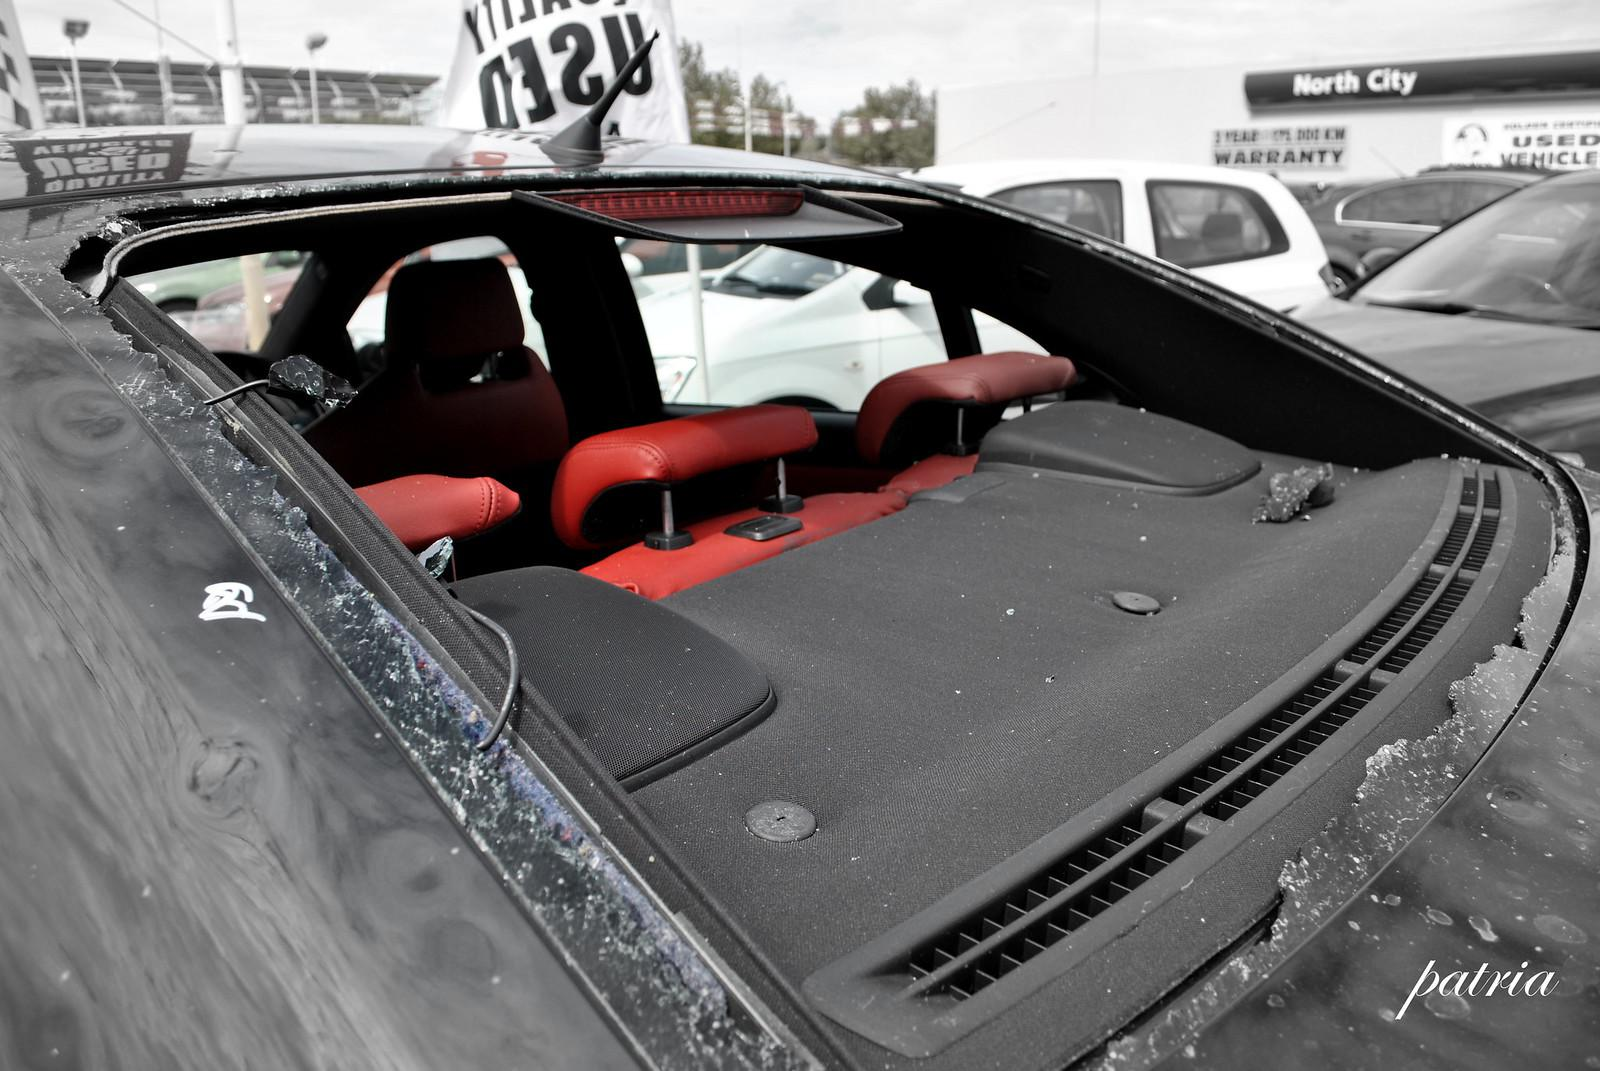Rear-windscreen-Damage: (5, 60, 1587, 996)
